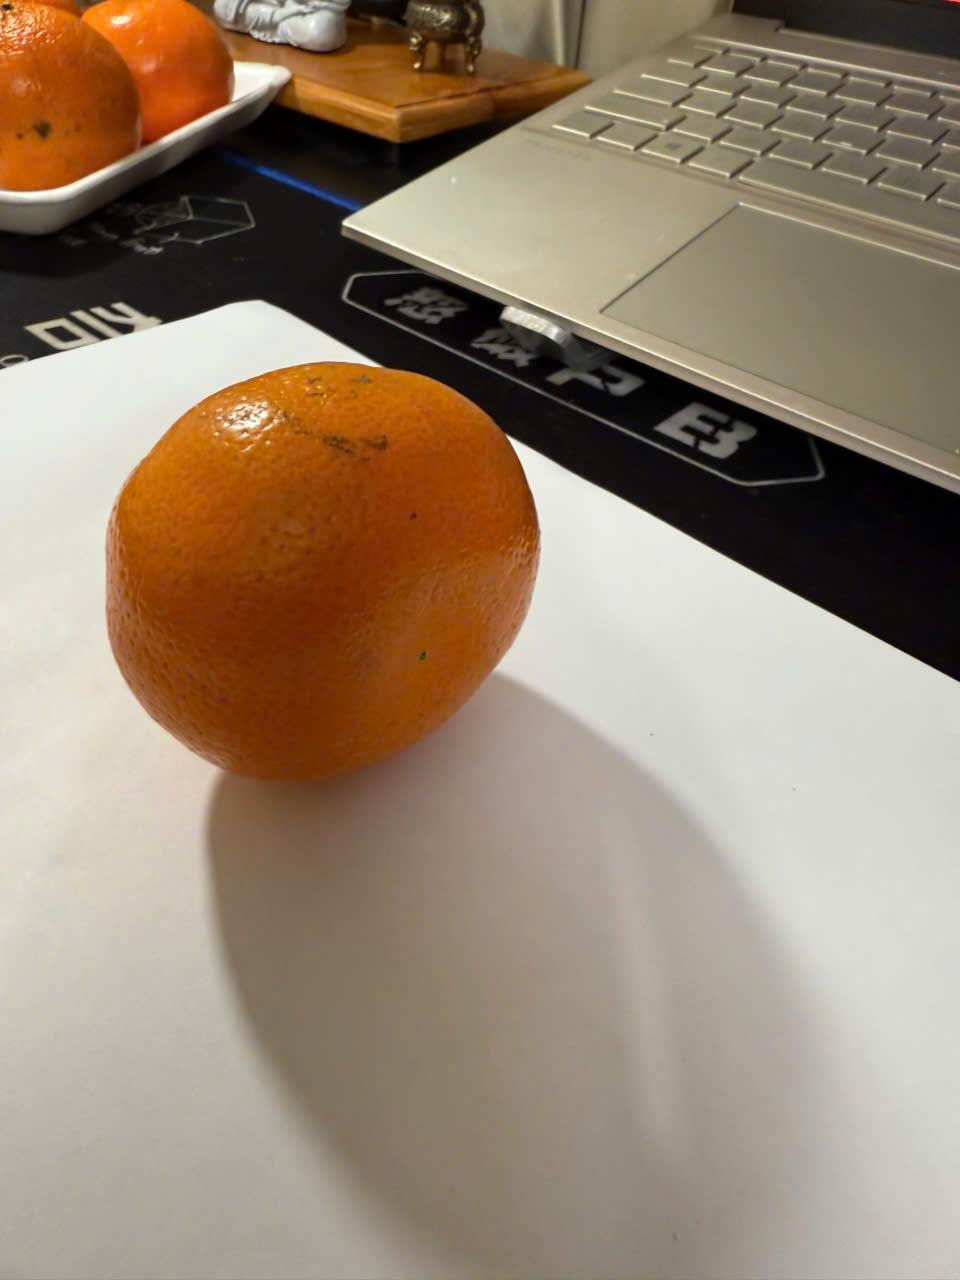orange: (90, 346, 550, 786)
